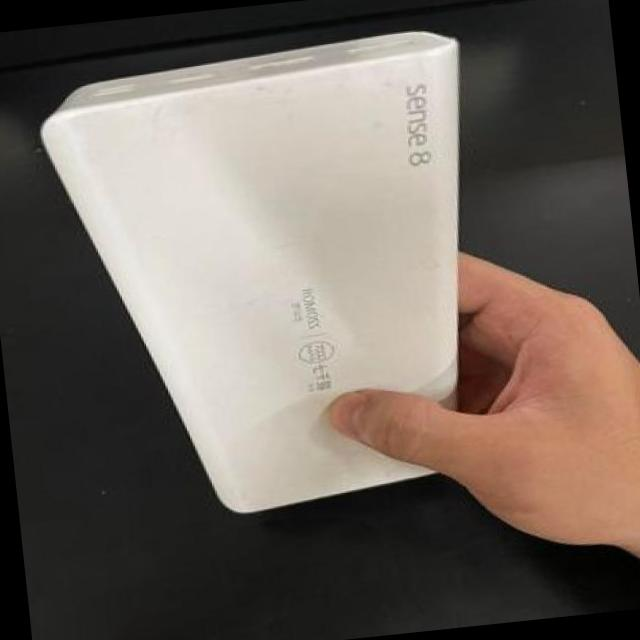portable-charger: (24, 9, 516, 534)
